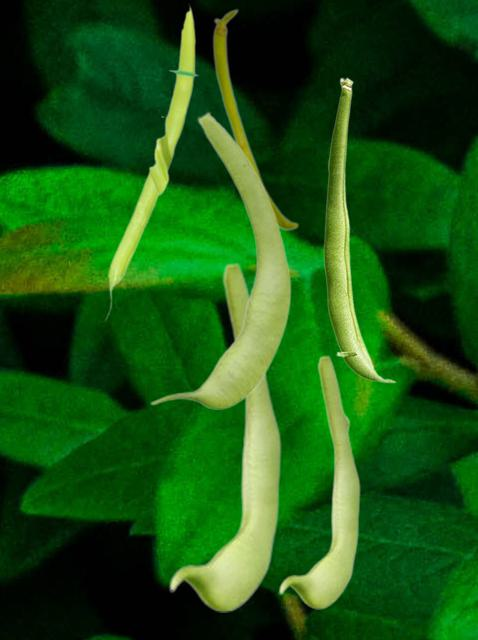french_bean: (149, 110, 291, 408), (168, 261, 280, 611), (104, 3, 198, 321), (323, 77, 396, 382), (278, 354, 359, 608), (212, 8, 298, 230)
